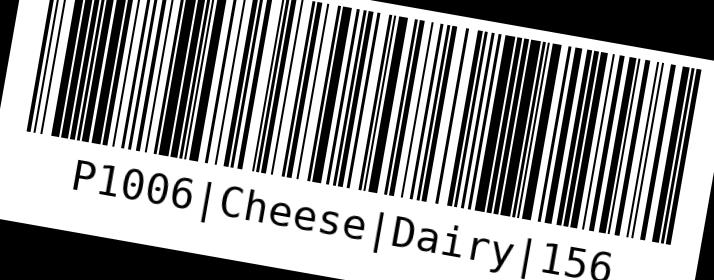milk: (12, 1, 712, 279)
